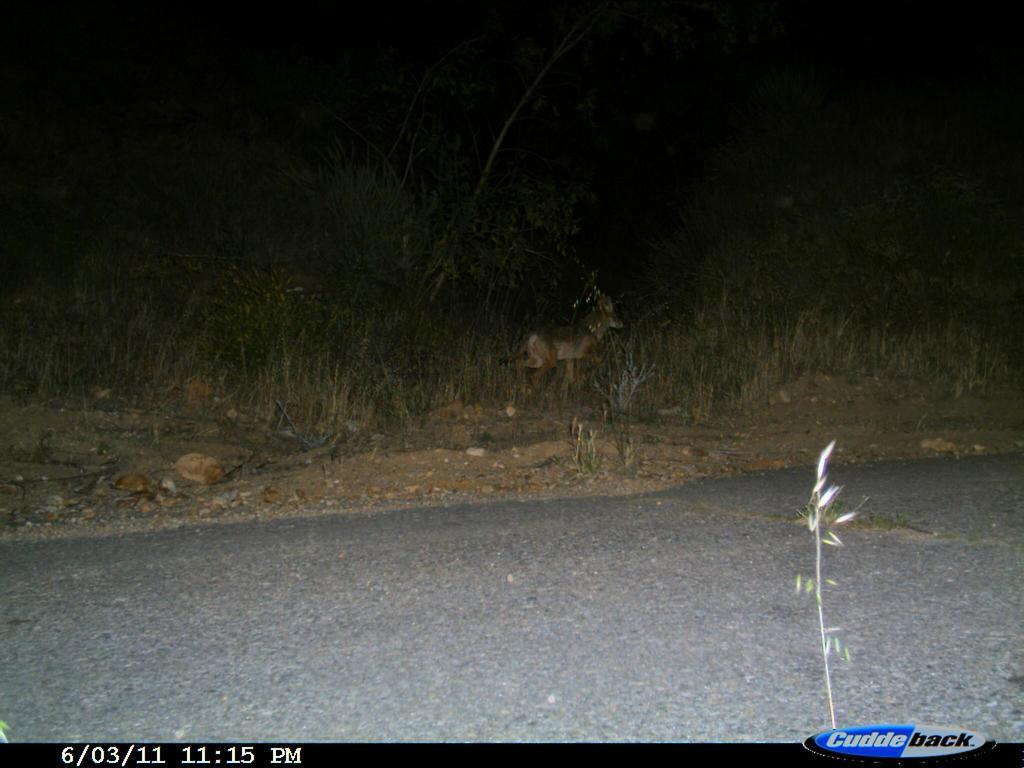coyote: (496, 287, 642, 415)
